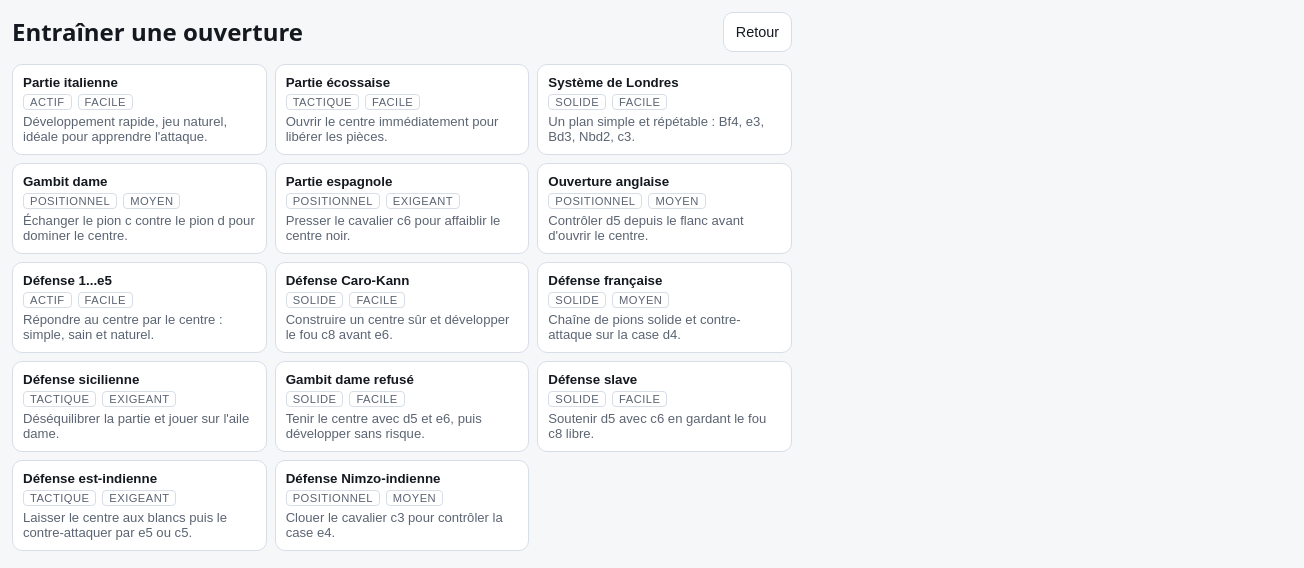
entrainement d’ouverture : coup theorique › affiche le coup d’office en mode « Toujours »
Step 1. Click the button "Partie italienne" → click(139, 110), box [12,64,267,155]
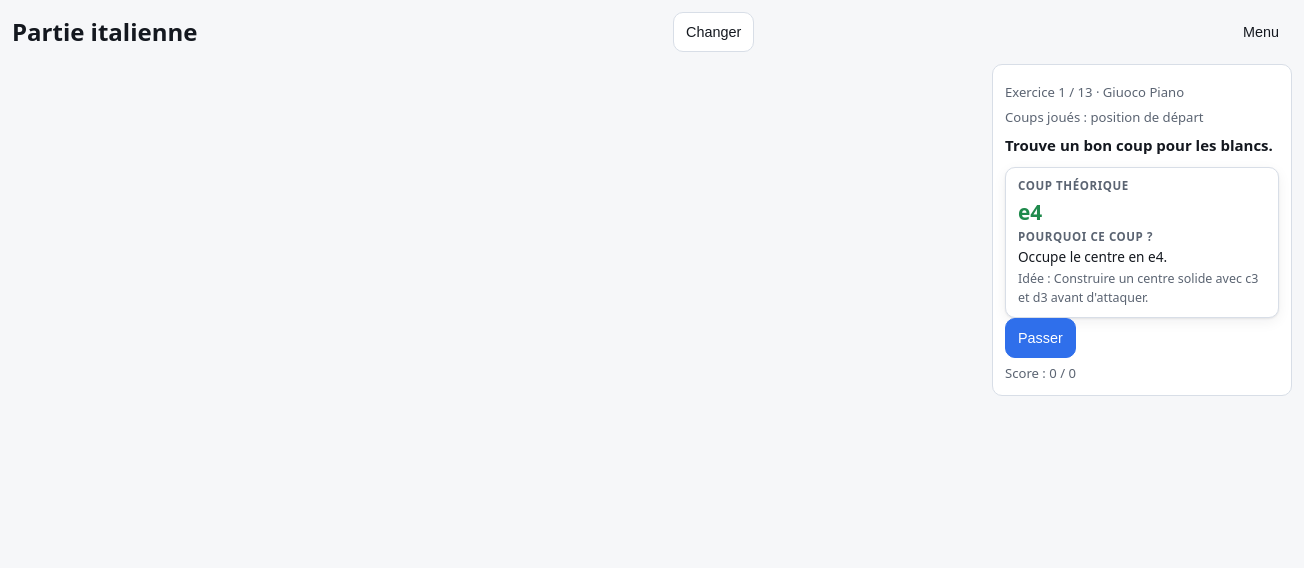
Check: the element with test id "best-move-detail" shows "e4", box [1018,198,1042,226]
